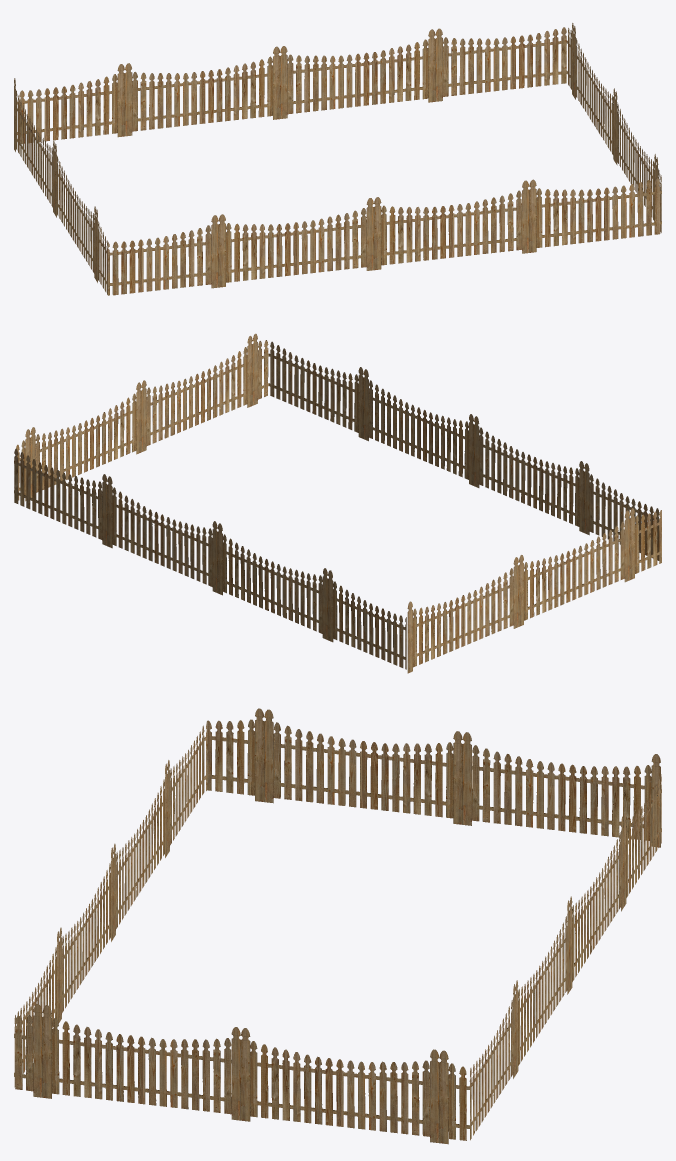
The model's file is fence_50_31_0040507_6.dae.
3 renders of one model, top to bottom at view 1: azimuth 30°, elevation 25°; view 2: azimuth 150°, elevation 25°; view 3: azimuth 270°, elevation 25°, orthographic. The views are drawn at different scales.
Visible parts, largest first — view 1: MainNode; view 2: MainNode; view 3: MainNode.
Boxes of the visible parts, x1,y1,x2,y2 form: MainNode: (14,23,661,295); MainNode: (14,333,661,673); MainNode: (14,708,661,1144).
Bounding box in the file's own units: 12.12 × 9.46 × 1.5.
Materials: 1 (1 with a texture image).
